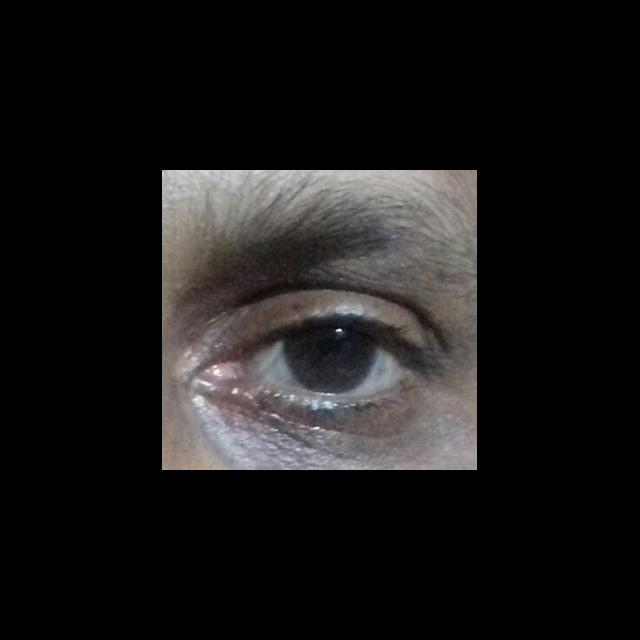eye: (250, 323, 412, 397)
iris: (283, 327, 377, 392)
